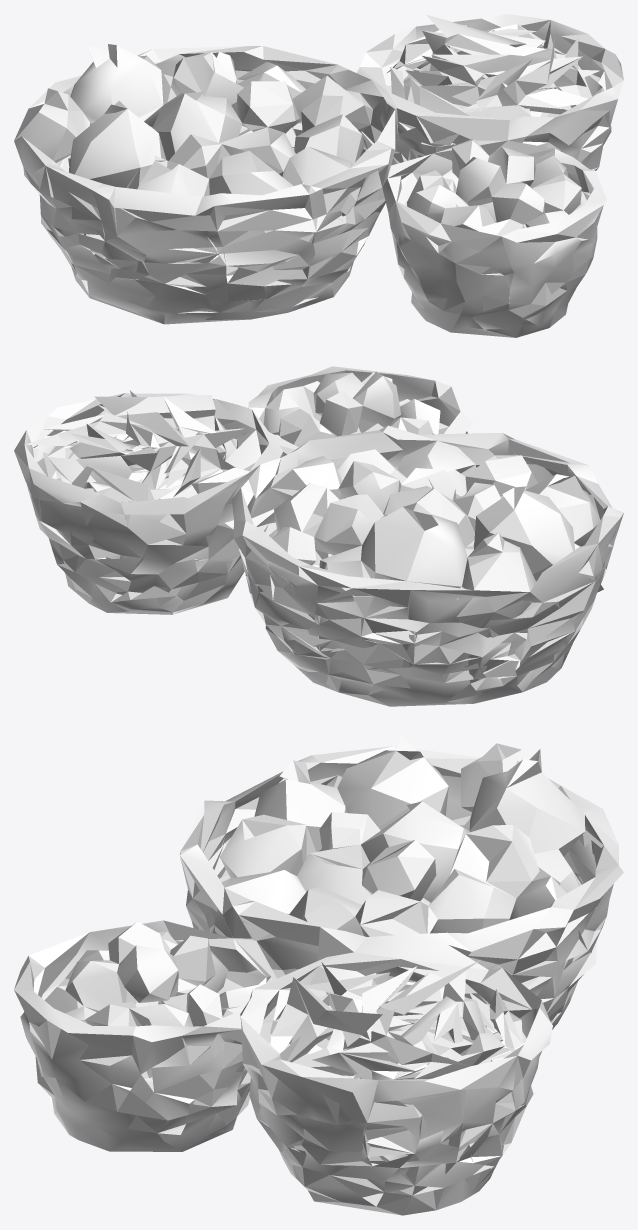
Rendered from fruit_basket.glb.
The picture shows the model from 3 angles, top to bottom: view 1: azimuth 30°, elevation 25°; view 2: azimuth 150°, elevation 25°; view 3: azimuth 270°, elevation 25°; orthographic projection. The views are drawn at different scales.
Parts seen in each view (by area): view 1: Mesh_0; view 2: Mesh_0; view 3: Mesh_0.
Part boxes in pixels (bbox=[...]): Mesh_0: bbox=[14, 14, 623, 337]; Mesh_0: bbox=[14, 366, 623, 706]; Mesh_0: bbox=[14, 736, 623, 1215].
Size of the model in its own units: 1.1 by 0.3797 by 0.8814.
Materials: 1 (1 with a texture image).
